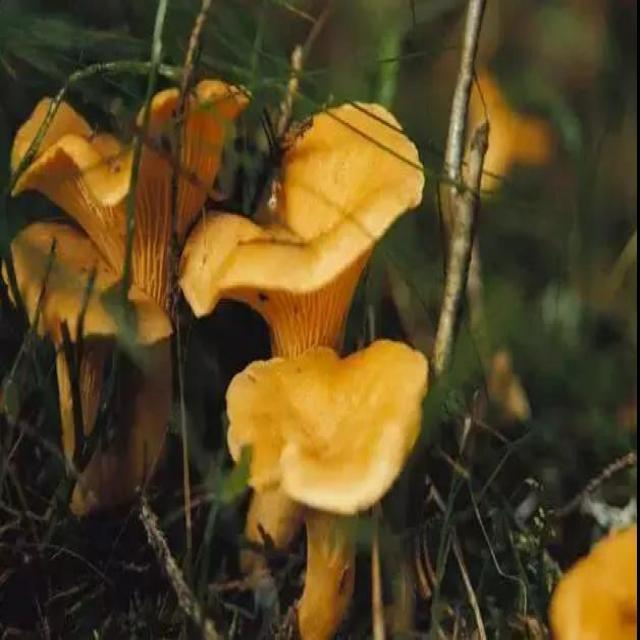Cantharellus cibarius: (11, 75, 250, 513), (226, 342, 431, 630), (182, 106, 422, 344)
